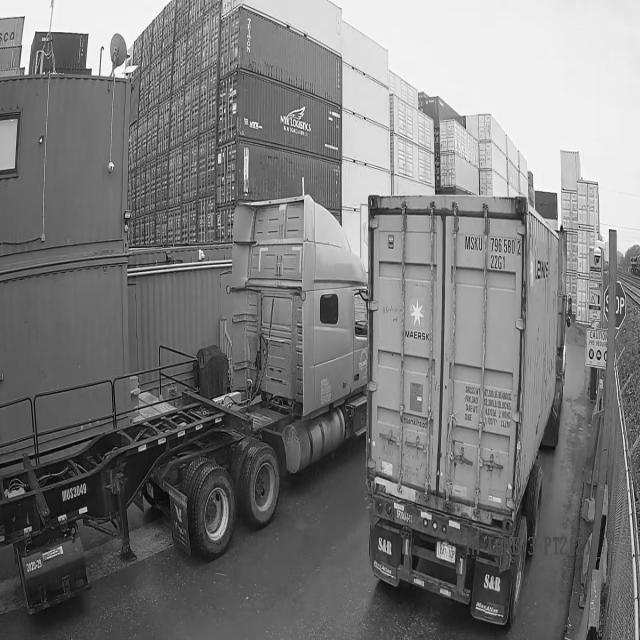container_company_logo: (404, 288, 439, 355)
container_number: (465, 224, 522, 277)
license_plate: (433, 539, 456, 564)
truck_with_container: (366, 196, 570, 626)
truck_without_container: (0, 196, 368, 612)
